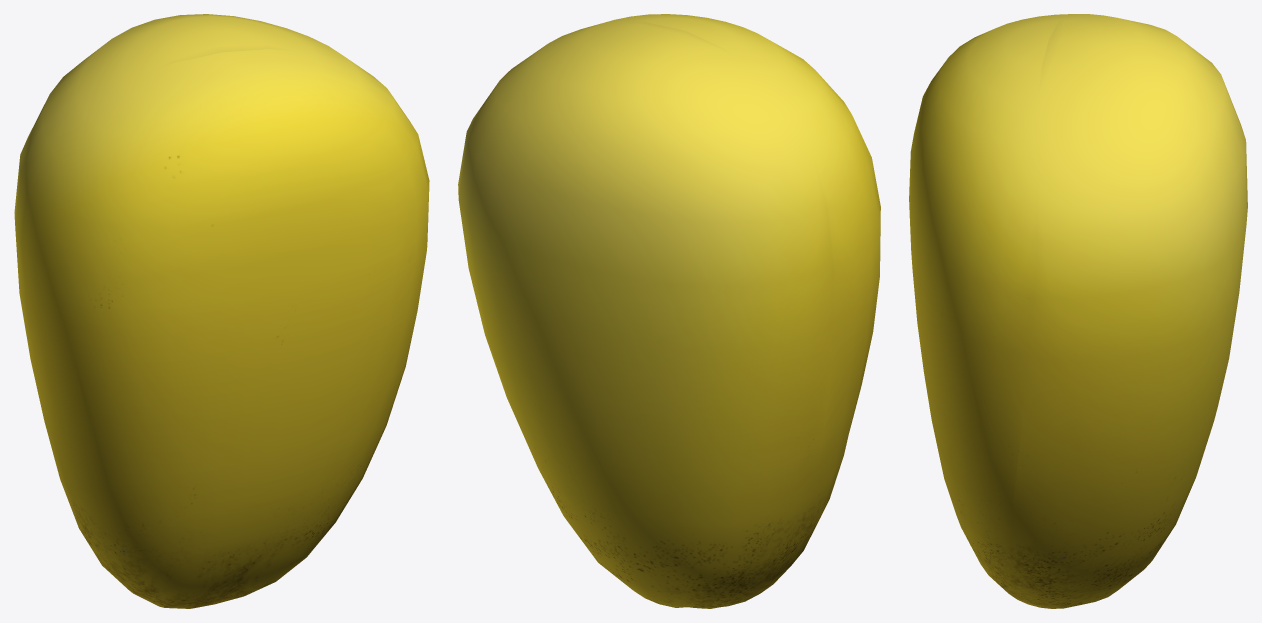
File: cornkernel.fbx
The picture shows the model from 3 angles, left to right: view 1: azimuth 30°, elevation 25°; view 2: azimuth 150°, elevation 25°; view 3: azimuth 270°, elevation 25°; orthographic projection. The views are drawn at different scales.
Visible parts, largest first — view 1: Sphere; view 2: Sphere; view 3: Sphere.
Boxes of the visible parts, box(x1,y1,x2,y2) form: Sphere: box(14, 14, 429, 608); Sphere: box(458, 14, 880, 608); Sphere: box(909, 14, 1247, 608).
Size of the model in its own units: 167 by 238 by 129.
1 material, 1 textured.
